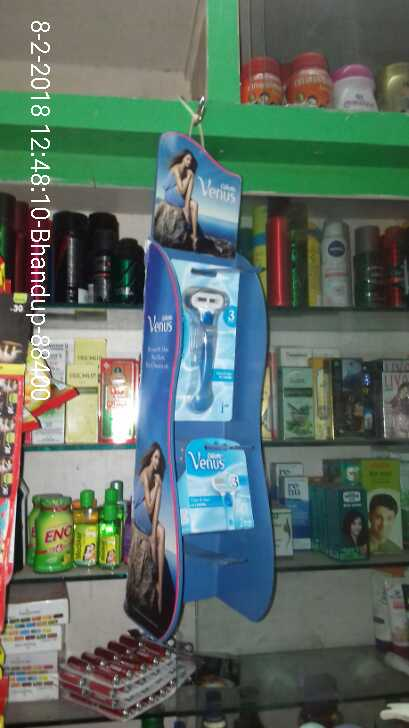beauty: (172, 261, 235, 421), (182, 436, 256, 537)
